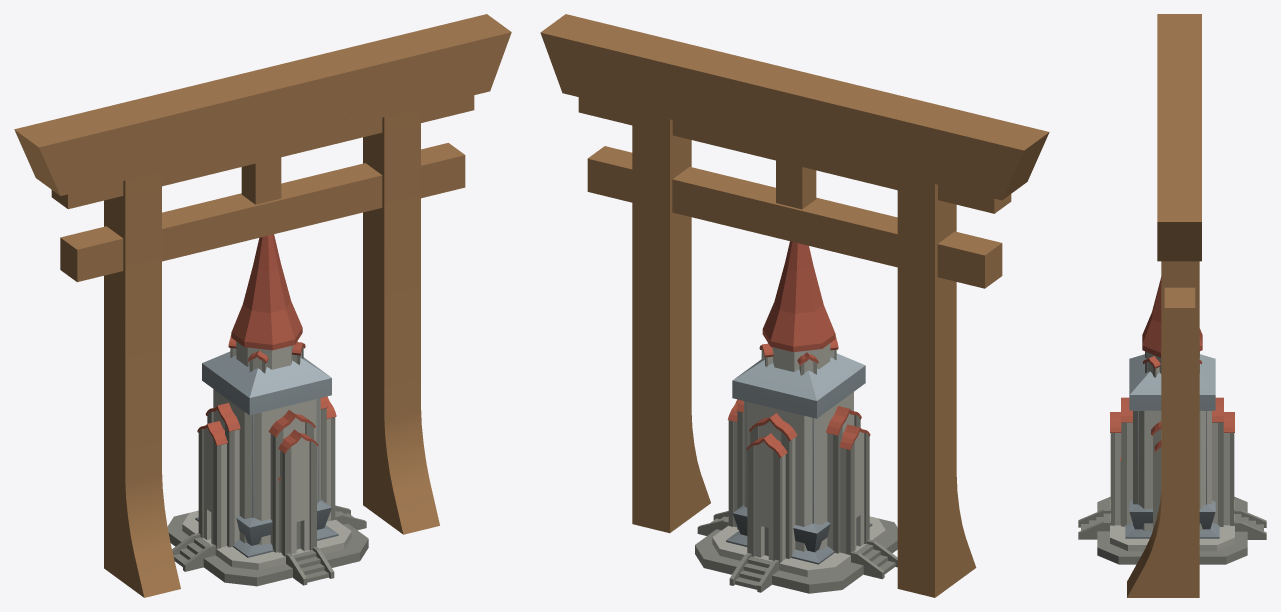
The model's file is arch.glb.
3 renders of one model, left to right at view 1: azimuth 30°, elevation 25°; view 2: azimuth 150°, elevation 25°; view 3: azimuth 270°, elevation 25°, orthographic. The views are drawn at different scales.
Parts seen in each view (by area): view 1: Environment_ToriiGate, Temple_SecondAge_Level2, shrine, Temple_SecondAge_Level1; view 2: Environment_ToriiGate, Temple_SecondAge_Level2, shrine, Temple_SecondAge_Level1; view 3: Environment_ToriiGate, Temple_SecondAge_Level2, shrine, Temple_SecondAge_Level1.
Part boxes in pixels (<box>): Environment_ToriiGate: <box>14,14,511,597</box>; Temple_SecondAge_Level2: <box>168,234,366,585</box>; shrine: <box>195,351,338,557</box>; Temple_SecondAge_Level1: <box>167,477,368,586</box>; Environment_ToriiGate: <box>540,14,1049,597</box>; Temple_SecondAge_Level2: <box>697,241,897,593</box>; shrine: <box>726,353,872,564</box>; Temple_SecondAge_Level1: <box>695,518,897,592</box>; Environment_ToriiGate: <box>1127,14,1201,597</box>; Temple_SecondAge_Level2: <box>1078,277,1266,564</box>; shrine: <box>1125,354,1219,538</box>; Temple_SecondAge_Level1: <box>1078,457,1247,564</box>.
Size of the model in its own units: 5.73 by 5.32 by 2.19.
Materials: 5 (2 with a texture image).
